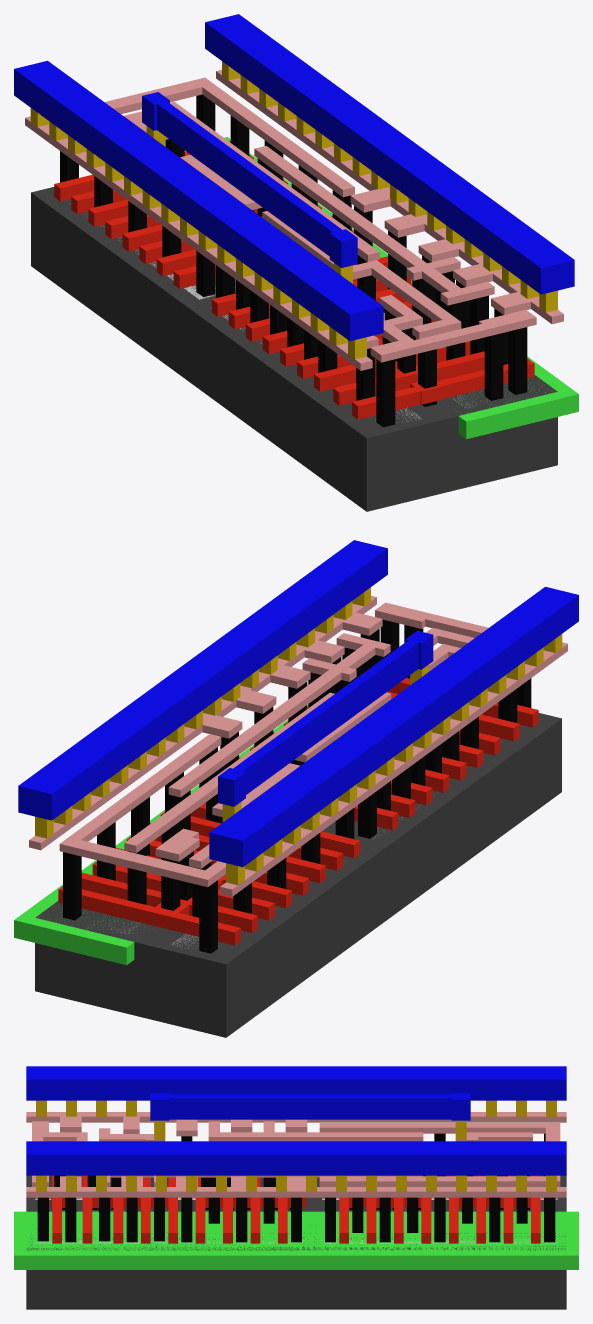
File: sky130_fd_sc_hd__mux2i_4.obj
3 renders of one model, top to bottom at view 1: azimuth 30°, elevation 25°; view 2: azimuth 150°, elevation 25°; view 3: azimuth 270°, elevation 25°, orthographic. The views are drawn at different scales.
Parts seen in each view (by area): view 1: metal1, subs, li, licon, poly, mcon, nwell; view 2: metal1, subs, li, licon, poly, mcon, nwell; view 3: metal1, subs, nwell, li, licon, poly, mcon, tap.
Boxes of the visible parts, <box> form: metal1: <box>14,14,574,341</box>; subs: <box>31,187,557,511</box>; li: <box>25,69,563,370</box>; licon: <box>60,94,527,427</box>; poly: <box>54,141,534,419</box>; mcon: <box>30,61,557,359</box>; nwell: <box>184,137,578,439</box>; metal1: <box>18,540,578,867</box>; subs: <box>35,713,561,1037</box>; li: <box>29,595,567,896</box>; licon: <box>63,619,531,953</box>; poly: <box>58,678,538,945</box>; mcon: <box>35,587,562,885</box>; nwell: <box>14,705,308,965</box>; metal1: <box>26,1066,566,1175</box>; subs: <box>26,1175,566,1309</box>; nwell: <box>14,1211,578,1269</box>; li: <box>26,1112,566,1197</box>; licon: <box>37,1133,555,1242</box>; poly: <box>51,1175,540,1243</box>; mcon: <box>36,1100,556,1191</box>; tap: <box>35,1238,557,1243</box>.
Size of the model in its own units: 3.2 by 2.74 by 8.66.
